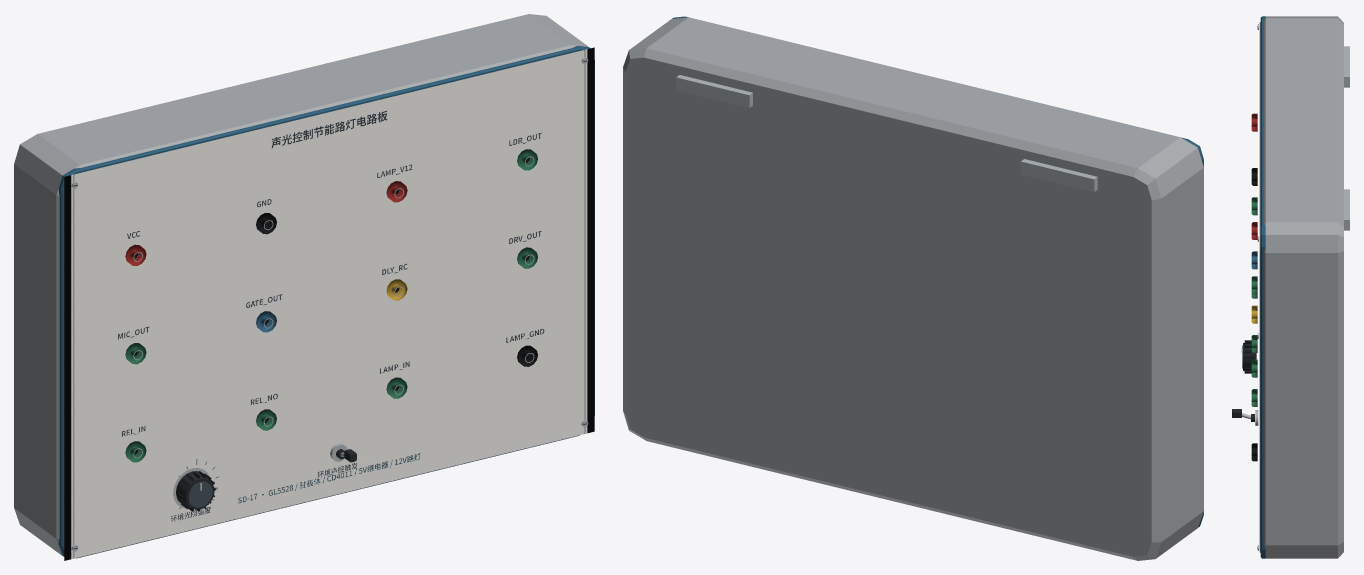
The model's file is module.glb.
The picture shows the model from 3 angles, left to right: view 1: azimuth 30°, elevation 25°; view 2: azimuth 150°, elevation 25°; view 3: azimuth 270°, elevation 25°; orthographic projection. The views are drawn at different scales.
Visible parts, largest first — view 1: PANEL_silkscreen, STATIC_paint, MOVING_LIGHT_LUX_paint, STATIC_metal; view 2: STATIC_paint, STATIC_metal; view 3: STATIC_paint, STATIC_metal, MOVING_LIGHT_LUX_paint.
Part boxes in pixels (left/top/right/bottom): PANEL_silkscreen: left=64, top=47, right=594, bottom=560; STATIC_paint: left=14, top=14, right=594, bottom=558; MOVING_LIGHT_LUX_paint: left=176, top=471, right=216, bottom=511; STATIC_metal: left=71, top=57, right=588, bottom=551; STATIC_paint: left=623, top=16, right=1203, bottom=560; STATIC_metal: left=676, top=75, right=1097, bottom=191; STATIC_paint: left=1251, top=16, right=1343, bottom=558; STATIC_metal: left=1255, top=24, right=1349, bottom=550; MOVING_LIGHT_LUX_paint: left=1241, top=340, right=1256, bottom=373.
Size of the model in its own units: 0.264 by 0.184 by 0.0588.
5 materials, 1 textured.
